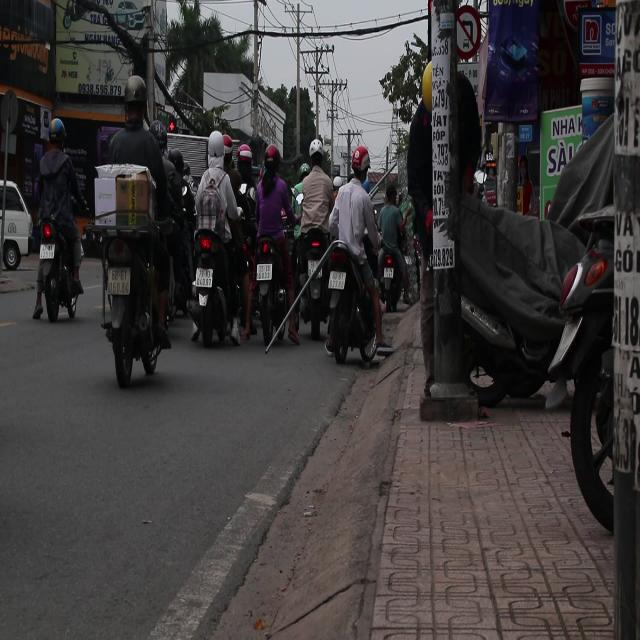car: (1, 183, 34, 271)
motorbike: (94, 216, 173, 387), (188, 207, 240, 348), (254, 230, 294, 343)
